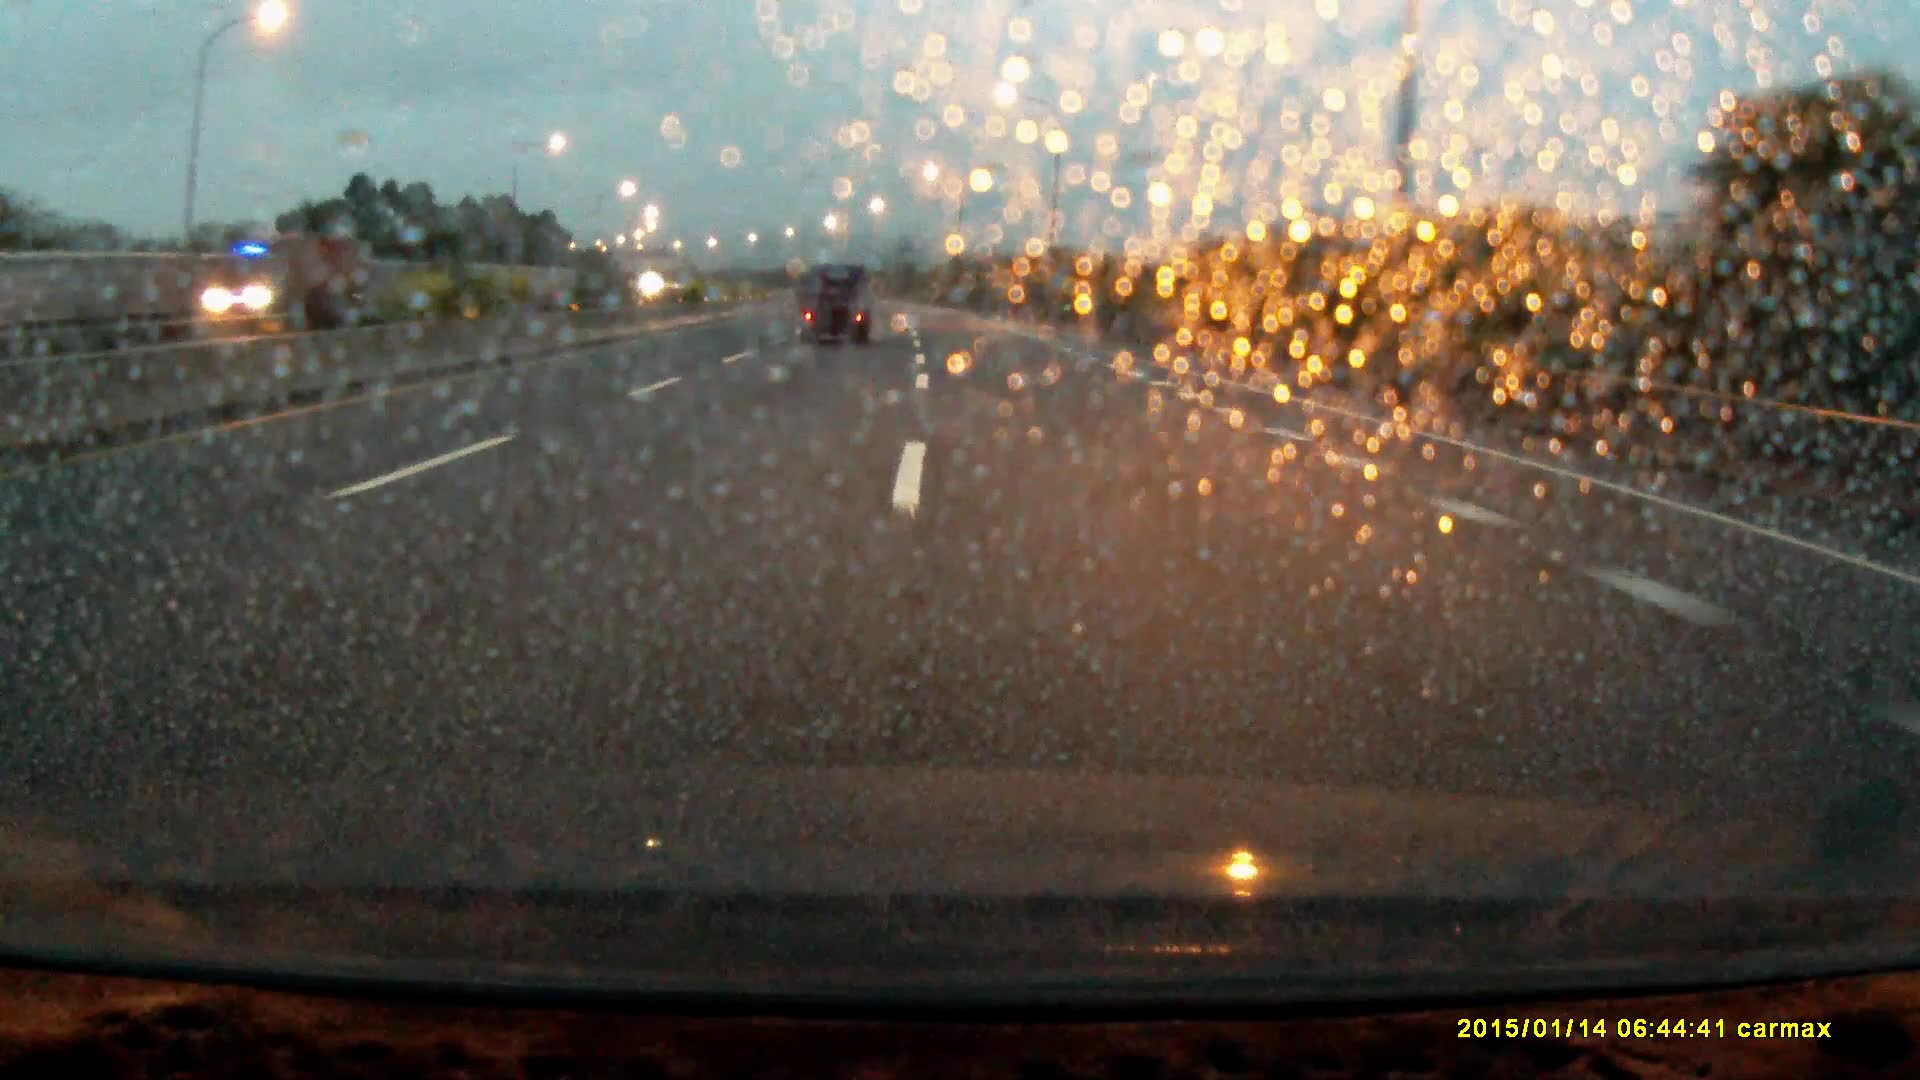vehicle: (193, 235, 359, 323), (795, 269, 874, 353)
